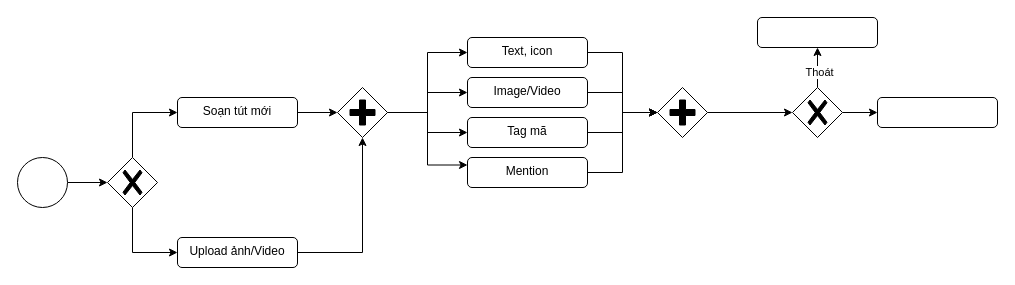
This 1015x285 diagram has some shape labels left out. The centre of each missing label's shape, as x and y in pixels:
"Confirmation Dialog" goes at (x=817, y=32).
"Đăng" goes at (x=937, y=112).
